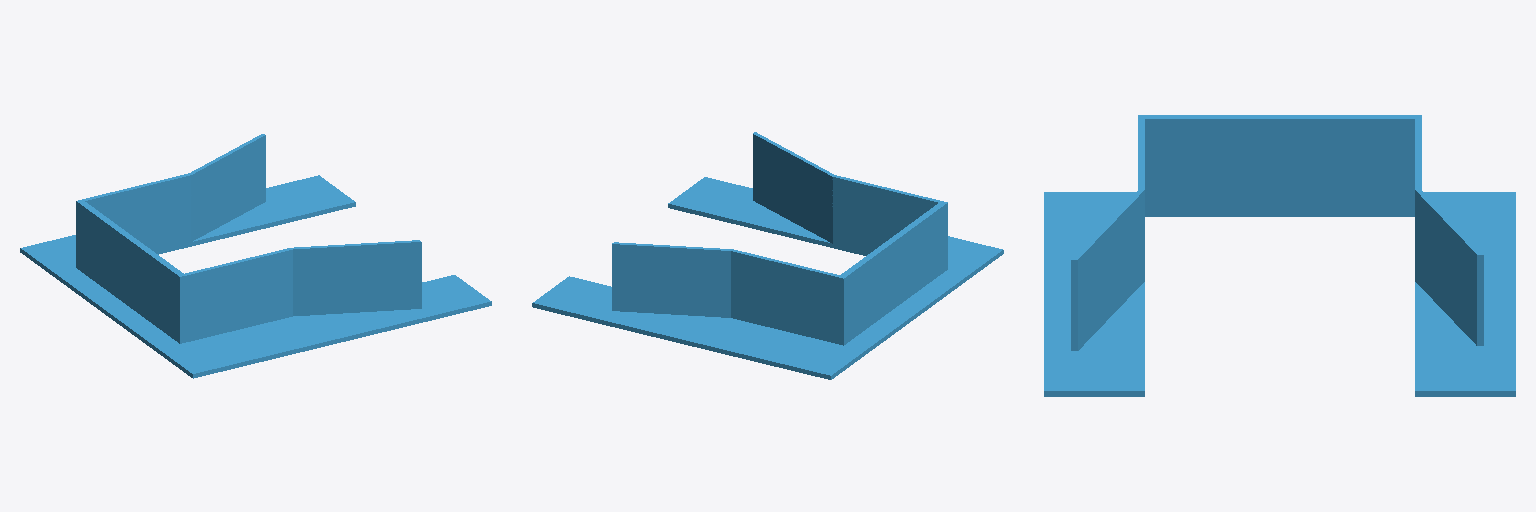
robot.urdf — alignment_block:
<?xml version="1.0" ?>
<robot name="alignment_block">
    <material name="mat">
        <texture filename="alignment_block.mtl"/>
    </material>

    <link name="base_link"/>

    <!--    Define the mounting plates for the robot arms-->
    <link name="alignment_block_link">
        <visual>
            <origin xyz="0 0 0" rpy="0 0 0"/>
            <geometry>
                <mesh filename="alignment_block.obj" scale="0.01 0.01 0.01"/>
            </geometry>
        </visual>
<!--        <collision>-->
<!--            <origin xyz="0.00725 0 0" rpy="0 0 0"/>-->
<!--            <geometry>-->
<!--                <box size="0.0142 0.1285 0.08548"/>-->
<!--            </geometry>-->
<!--        </collision>-->
        <inertial>
            <mass value="0.100"/>
        </inertial>
    </link>

    <joint name="base_link_2_alignment_block_link" type="fixed">
        <parent link="base_link"/>
        <child link="alignment_block_link"/>
        <origin xyz="0 0.0 0.00" rpy="0 0 0"/>
    </joint>

<!--    Virtual frames -->
</robot>

--- What the picture shows (computed from the rendered views, not written in the file) ---
Views: 3 orthographic renders of the robot side by side, from view 1: azimuth 30°, elevation 25°; view 2: azimuth 150°, elevation 25°; view 3: azimuth 270°, elevation 25°.
Robot: alignment_block — 2 links, 1 joints (1 fixed); root link base_link; default pose: all joints at 0.
Links seen in each view (by area): view 1: alignment_block_link; view 2: alignment_block_link; view 3: alignment_block_link.
Boxes of the visible links, <box> form: alignment_block_link: <box>20,134,491,378</box>; alignment_block_link: <box>532,132,1003,379</box>; alignment_block_link: <box>1044,115,1515,396</box>.
Size in the robot's own frame: 0.14 by 0.14 by 0.032 metres.
1 mesh visuals loaded from 1 distinct referenced files (1 OBJ).
